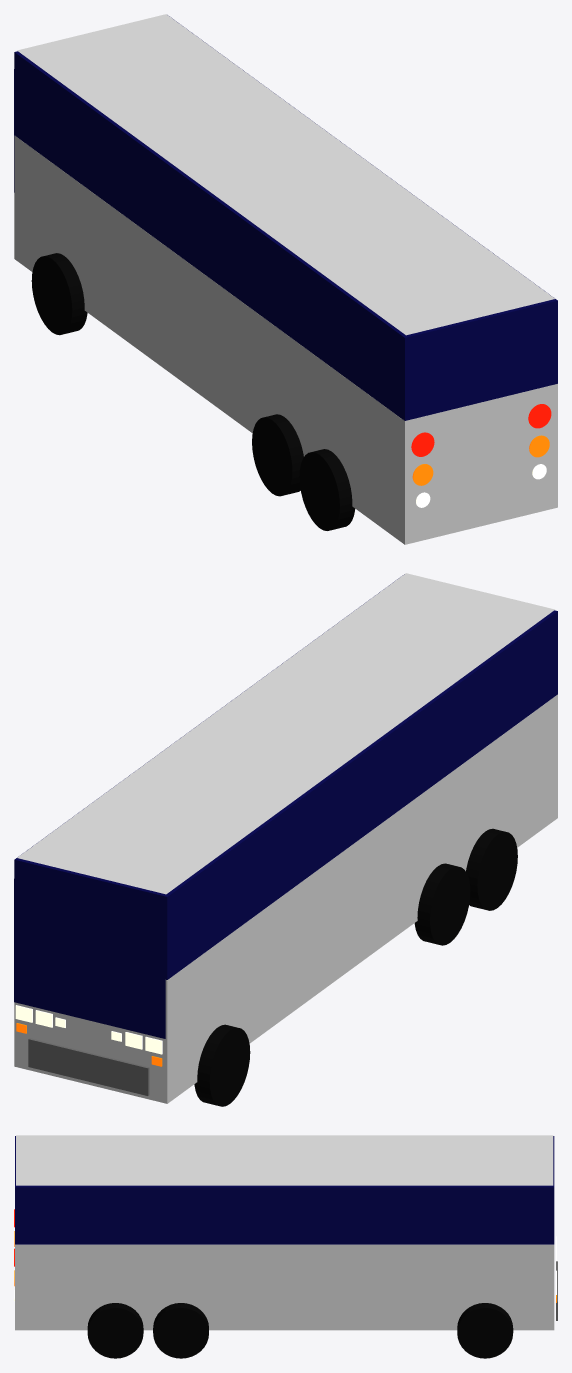
Rendered from new bus 3.fbx.
The picture shows the model from 3 angles, top to bottom: view 1: azimuth 30°, elevation 25°; view 2: azimuth 150°, elevation 25°; view 3: azimuth 270°, elevation 25°; orthographic projection. The views are drawn at different scales.
Visible parts, largest first — view 1: Cube.005, Plane.014, Cube.006, Circle.026, Circle.024, Circle.028; view 2: Plane.014, Cube.005, Cube.006, Plane.015, Plane.027, Circle.028, Circle.024, Circle.026; view 3: Cube.005, Cube.006, Plane.014, Circle.027, Circle.025, Circle.029.
Boxes of the visible parts, box(x1,y1,x2,y2) form: Cube.005: box(14, 135, 557, 544); Plane.014: box(17, 14, 554, 335); Cube.006: box(14, 16, 557, 420); Circle.026: box(299, 449, 355, 530); Circle.024: box(31, 253, 87, 335); Circle.028: box(252, 414, 303, 496); Plane.014: box(17, 573, 554, 894); Cube.005: box(14, 694, 557, 1103); Cube.006: box(14, 574, 557, 979); Plane.015: box(14, 878, 165, 1038); Plane.027: box(28, 1038, 149, 1095); Circle.028: box(414, 863, 470, 945); Circle.024: box(194, 1024, 250, 1106); Circle.026: box(466, 828, 517, 910); Cube.005: box(15, 1244, 554, 1330); Cube.006: box(15, 1136, 554, 1244); Plane.014: box(16, 1135, 553, 1185); Circle.027: box(87, 1303, 143, 1358); Circle.025: box(457, 1303, 513, 1358); Circle.029: box(153, 1303, 208, 1358).
Bounding box in the file's own units: 314 × 403 × 1188.
